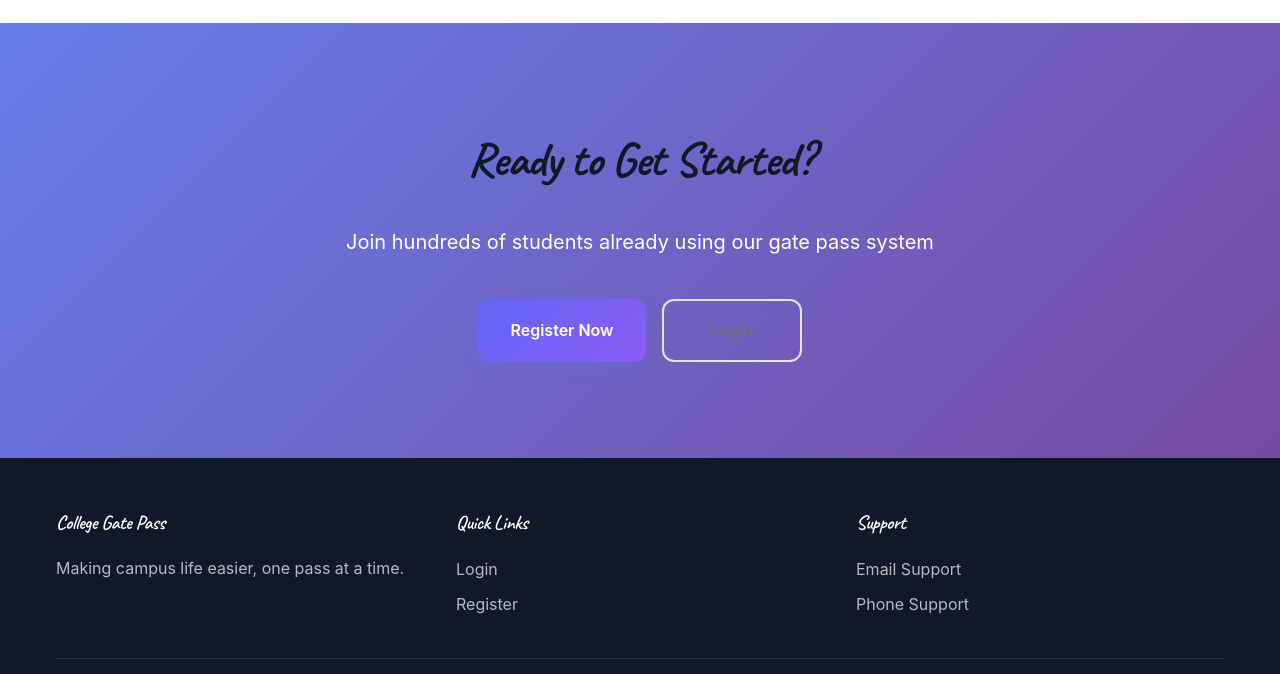
Gate Pass System - Basic Flow Tests › Navigation and Landing Page › should navigate to registration page
This screenshot has width=1280, height=674.
(page scrolled)
Step 1. Click the link "Register Now" → {"x": 563, "y": 331}, box [479,299,646,362]
(page scrolled)
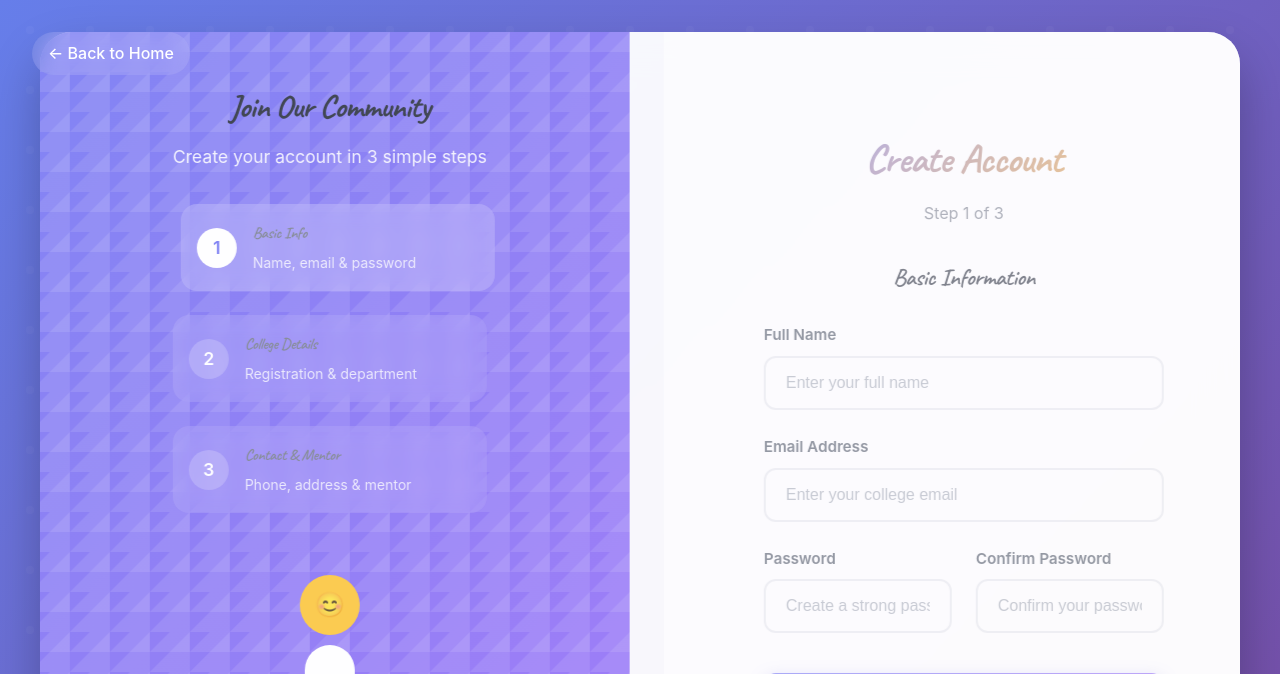
Result: the heading "Create Account" is shown at [780,125,1180,193]
